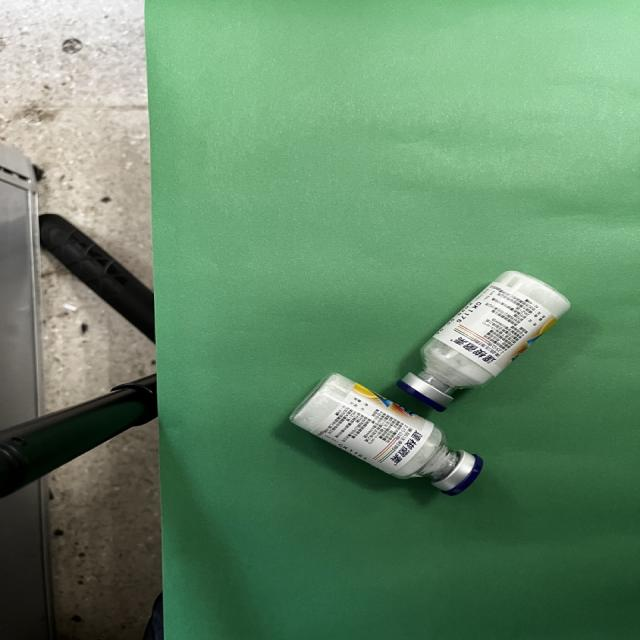Vials: (397, 271, 571, 413), (290, 374, 485, 497)
